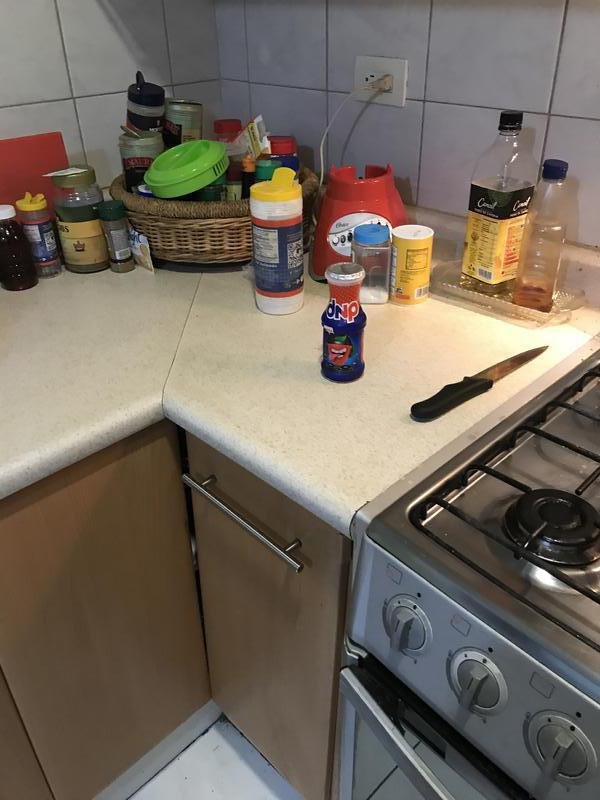danup: (319, 263, 371, 387)
